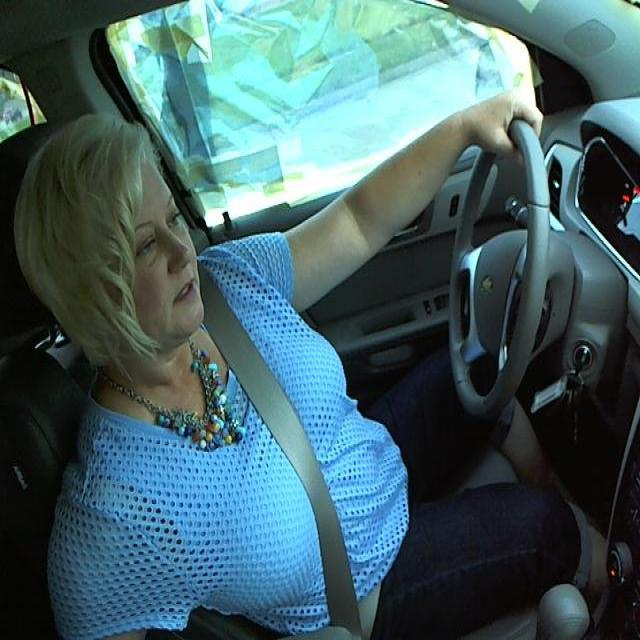seatbelt: (202, 318, 374, 630)
